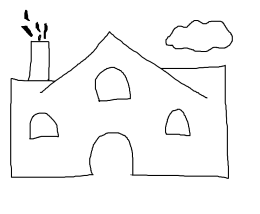clouds: (164, 18, 238, 56)
door: (83, 124, 142, 183)
open_window: (94, 65, 132, 101), (29, 112, 59, 139), (165, 107, 192, 136)
single_line_roof: (39, 30, 208, 98)
smoking_chimney: (17, 6, 57, 83)
wall: (6, 62, 232, 181)
